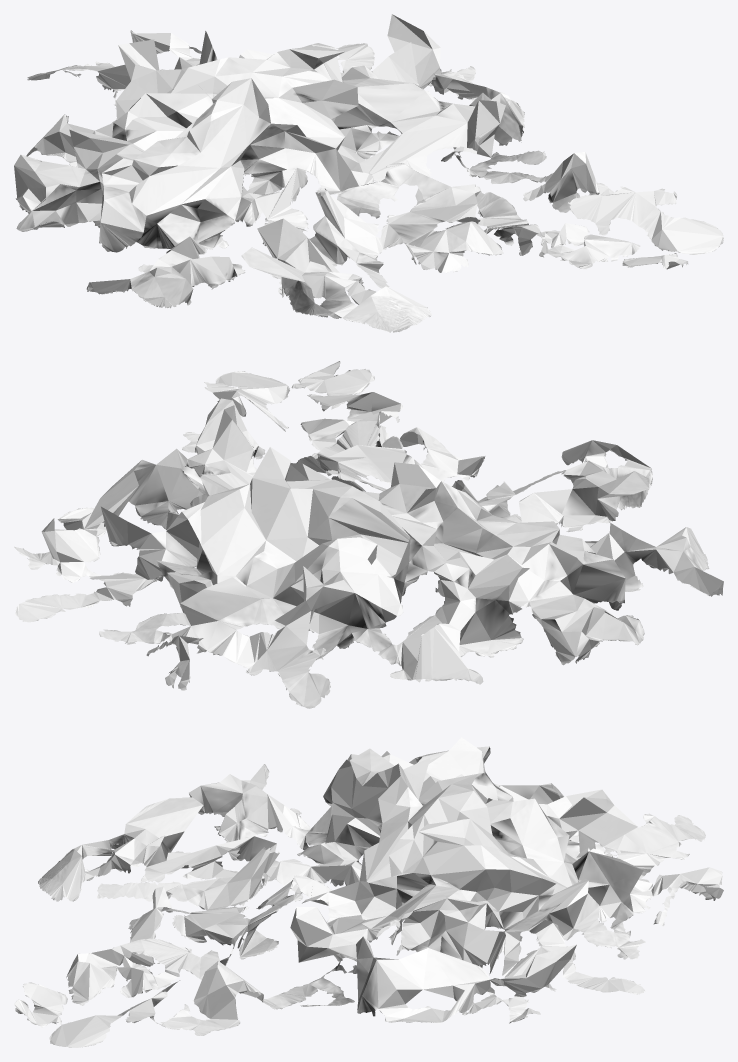
File: Snow_Paper_Floor_LowPoly.fbx
3 renders of one model, top to bottom at view 1: azimuth 30°, elevation 25°; view 2: azimuth 150°, elevation 25°; view 3: azimuth 270°, elevation 25°, orthographic. The views are drawn at different scales.
Visible parts, largest first — view 1: Floor_Color_Papers; view 2: Floor_Color_Papers; view 3: Floor_Color_Papers.
Part boxes in pixels (box(x1,y1,x2,y2)): Floor_Color_Papers: box(14, 14, 723, 332); Floor_Color_Papers: box(14, 361, 723, 708); Floor_Color_Papers: box(14, 737, 723, 1047).
Bounding box in the file's own units: 279 × 59.76 × 309.
Materials: 1 (1 with a texture image).
